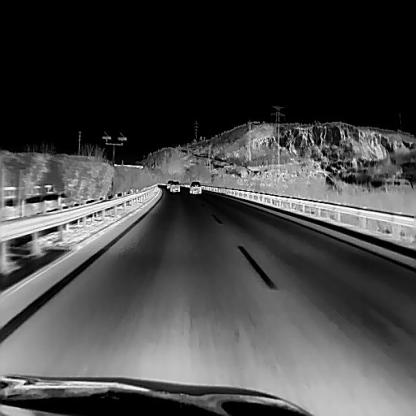car: (189, 180, 201, 192), (169, 179, 179, 191), (166, 178, 173, 188)
